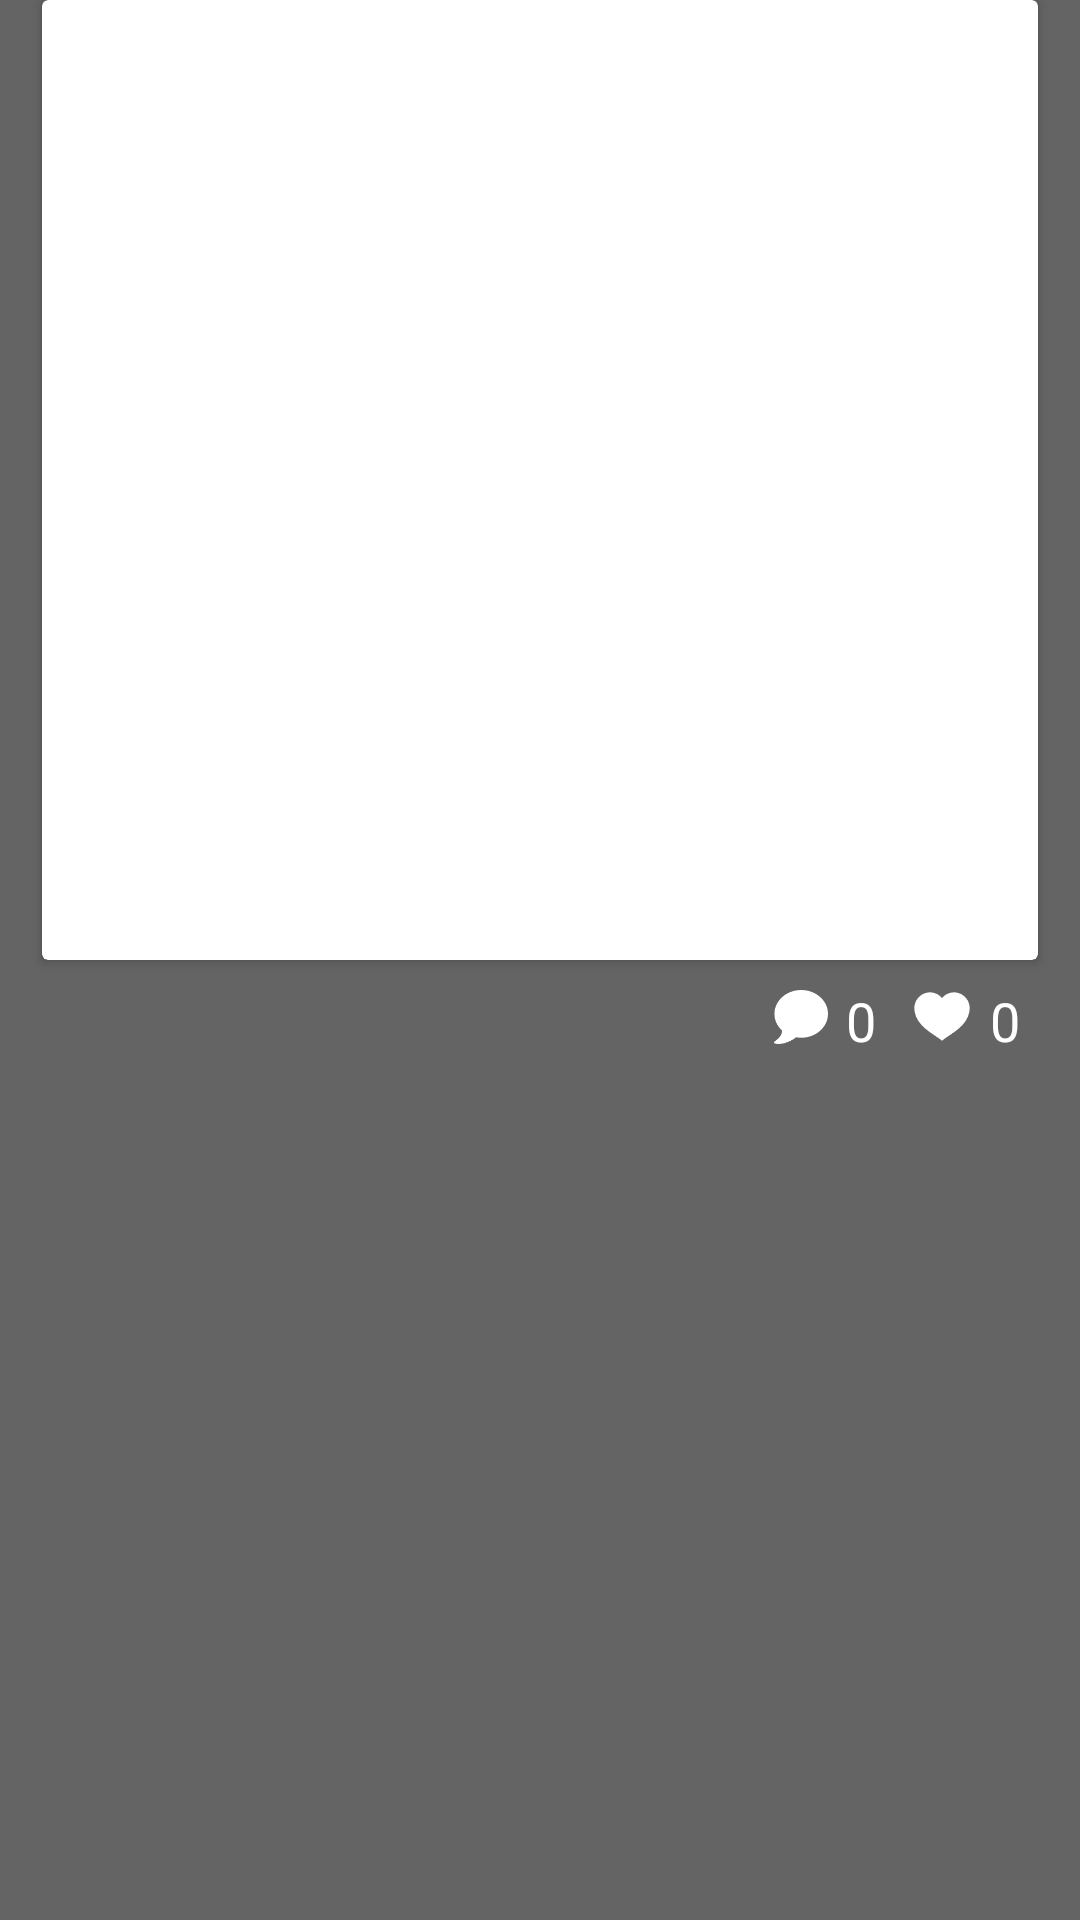

Where to tap for icons on this 1080 x 1920 app screen, as (x=x, y=y):
comment: (x=801, y=1017)
like: (x=942, y=1016)
